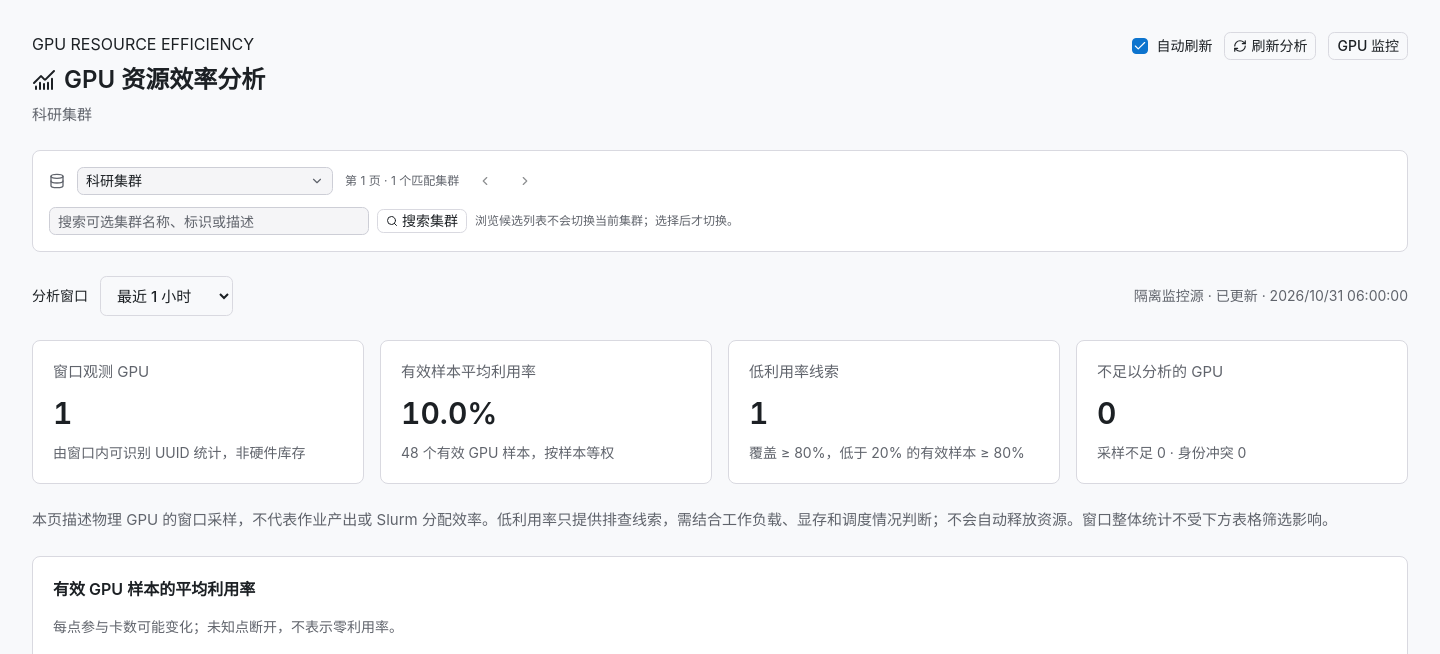
it: hides cached analysis immediately when a refresh is forbidden
Click the button "刷新分析": point(1270, 46) [1224,32,1316,60]
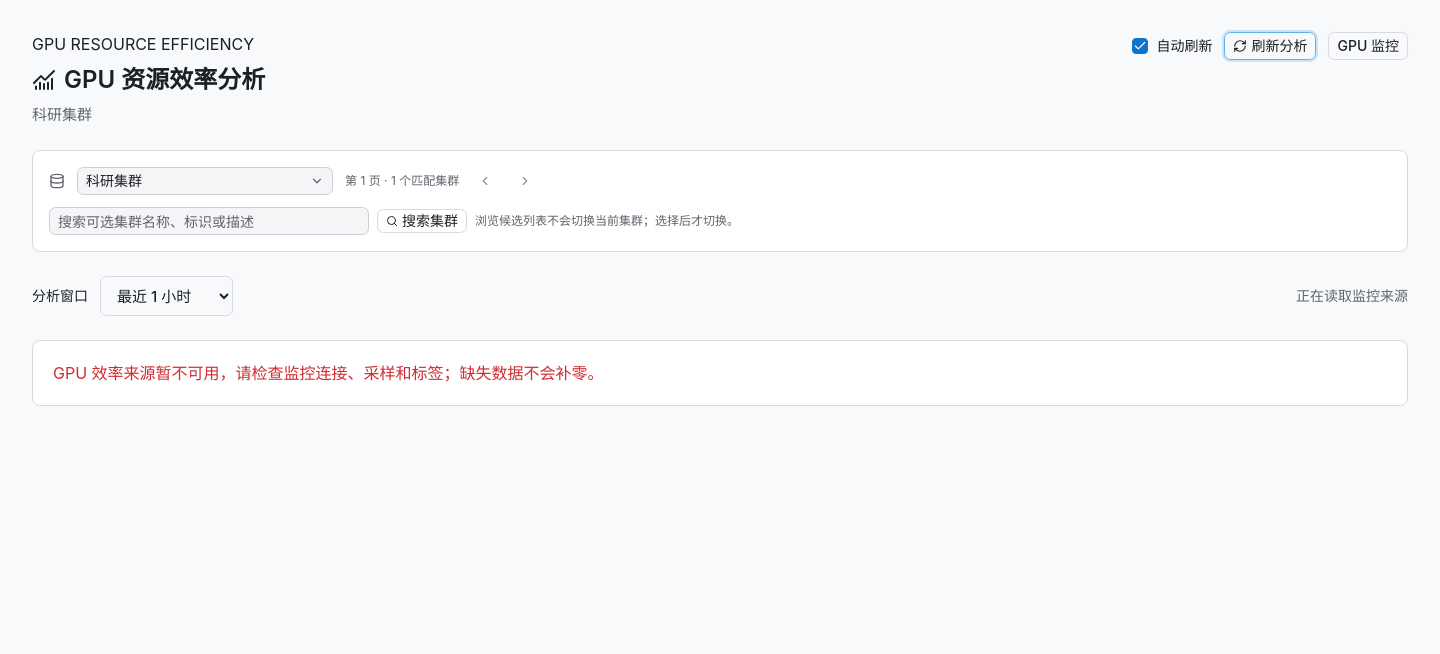
Result: the message "GPU 效率来源暂不可用，请检查监控连接、采样和标签；缺失数据不会补零。" is shown at [32,340,1408,406]
